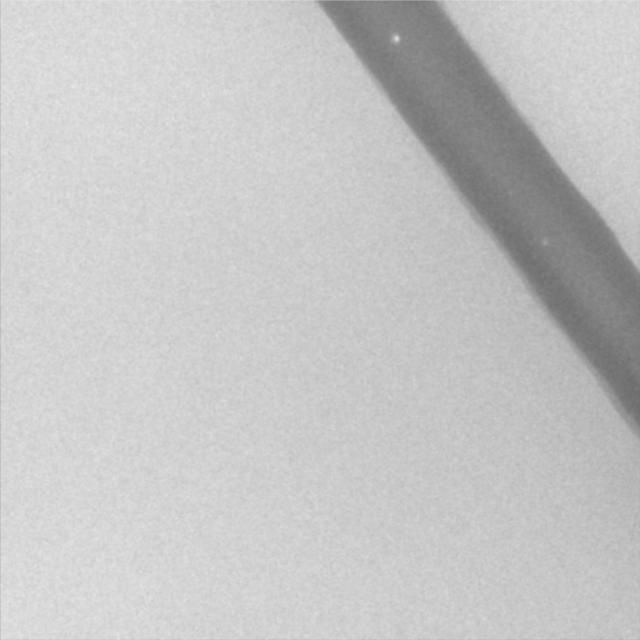air hole: (390, 33, 401, 44)
